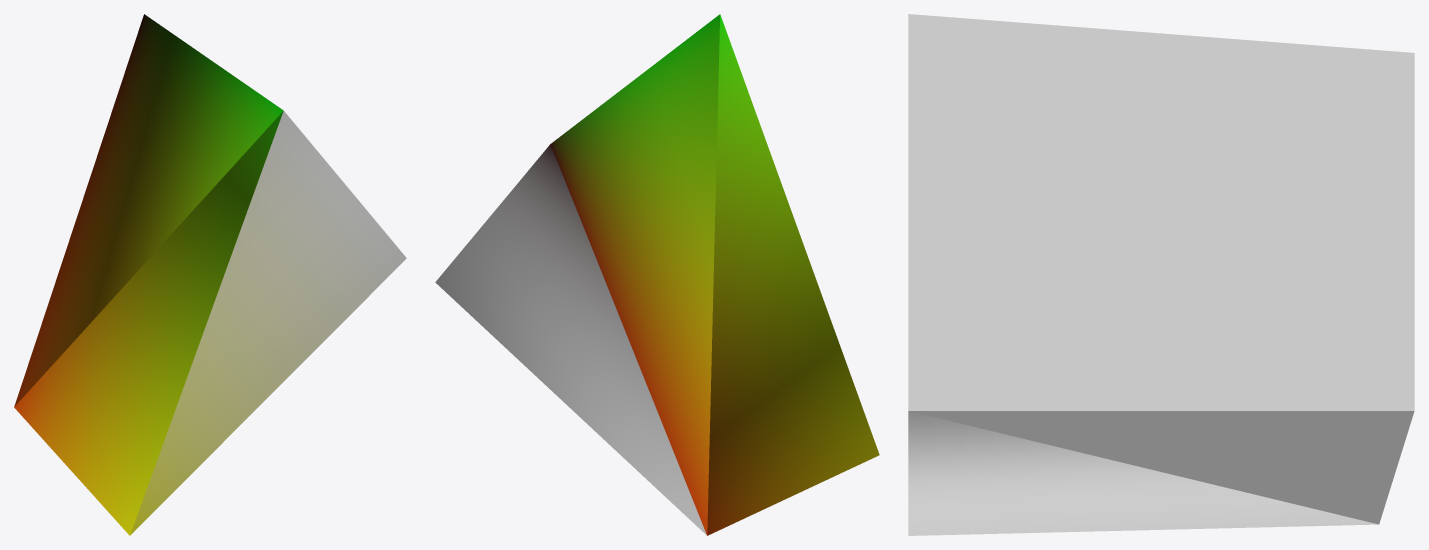
The model's file is Part_3_broken wall_11.fbx.
The picture shows the model from 3 angles, left to right: view 1: azimuth 30°, elevation 25°; view 2: azimuth 150°, elevation 25°; view 3: azimuth 270°, elevation 25°; orthographic projection. The views are drawn at different scales.
Parts seen in each view (by area): view 1: Part_3_broken wall_11; view 2: Part_3_broken wall_11; view 3: Part_3_broken wall_11.
Part boxes in pixels (left/top/right/bottom): Part_3_broken wall_11: left=14, top=14, right=406, bottom=535; Part_3_broken wall_11: left=435, top=14, right=879, bottom=535; Part_3_broken wall_11: left=908, top=14, right=1414, bottom=535.
Bounding box in the file's own units: 2.21 × 2.95 × 2.09.
